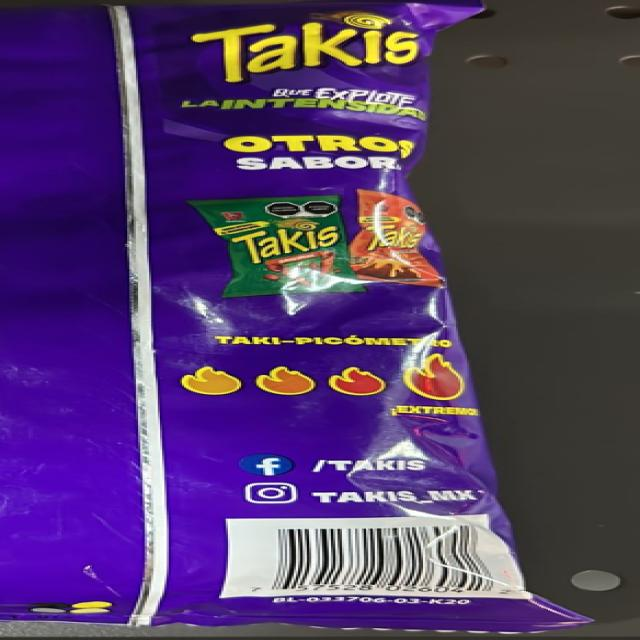productoAtras: (7, 7, 462, 626)
